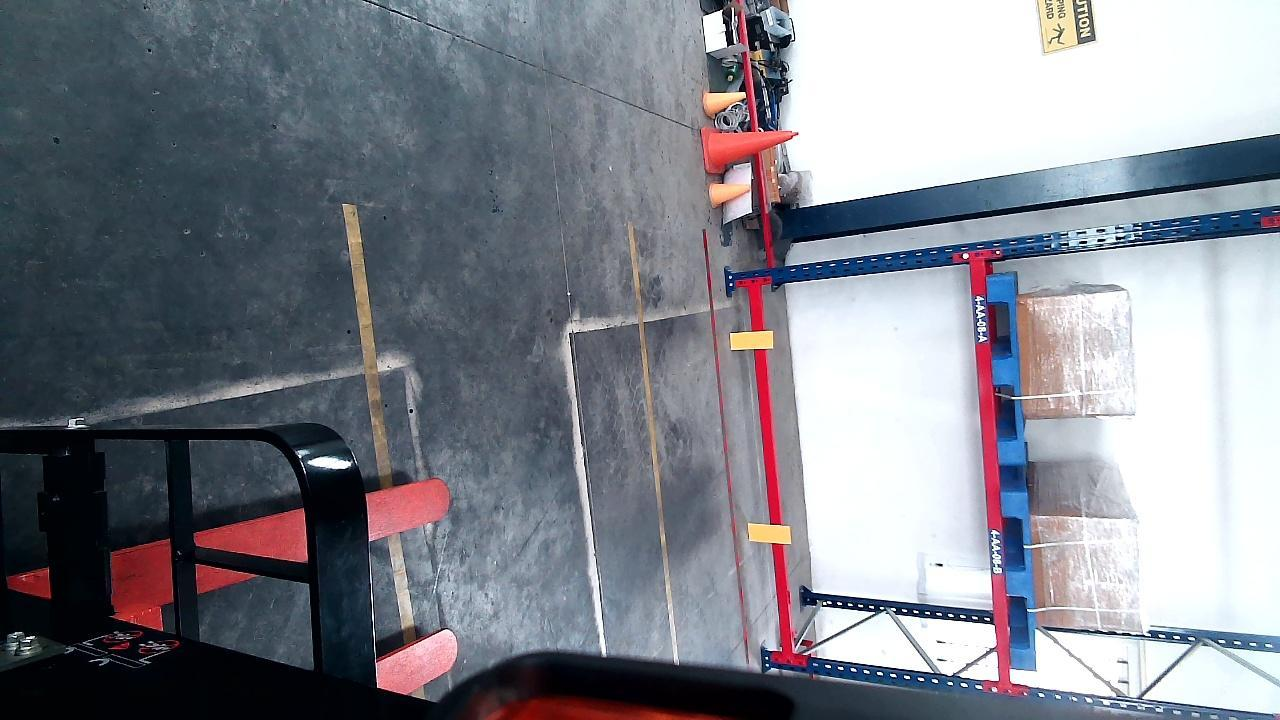red_line: (701, 230, 752, 665)
yellow_line: (340, 205, 412, 635), (627, 218, 681, 665)
